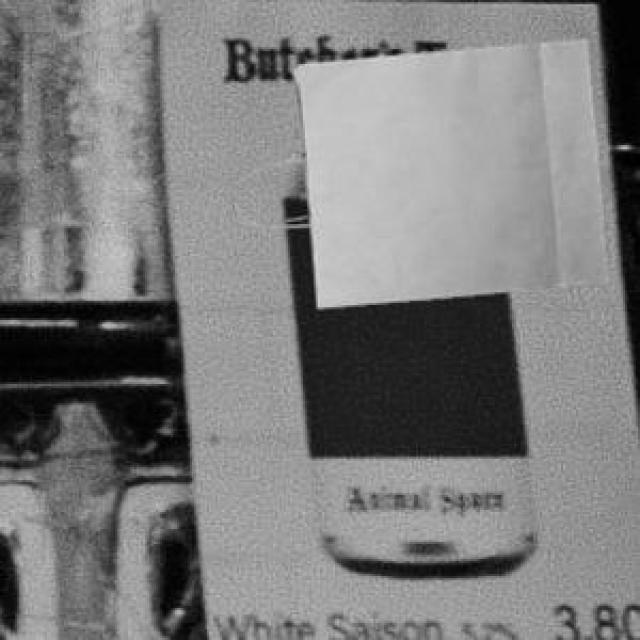paper: (228, 36, 604, 303)
